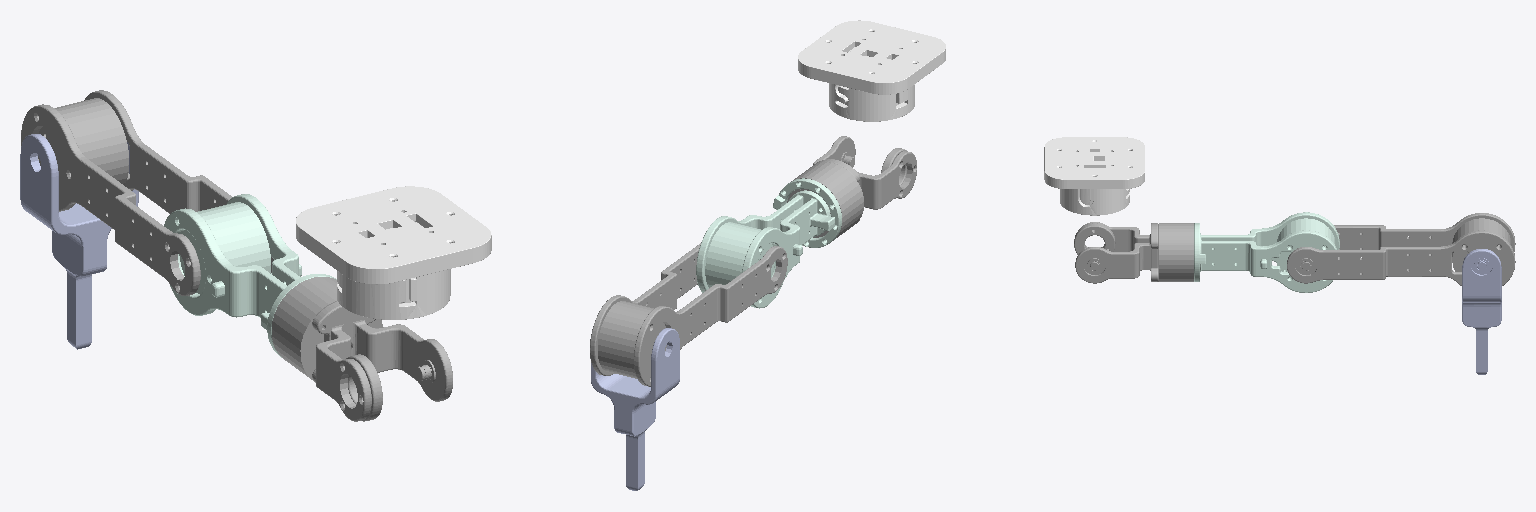
URDF robot description (tandem_mani):
<?xml version="1.0" encoding="utf-8"?>
<!-- This URDF was automatically created by SolidWorks to URDF Exporter! Originally created by [author] ([email redacted]) 
     Commit Version: 1.6.0-4-g7f85cfe  Build Version: 1.6.7995.38578
     For more information, please see http://wiki.ros.org/sw_urdf_exporter -->
<robot
  name="tandem_mani">
  <link
    name="base_link">
    <inertial>
      <origin
        xyz="0.000135595388122672 5.91224063131307E-05 -0.018365850422852"
        rpy="0 0 0" />
      <mass
        value="0.285969725659351" />
      <inertia
        ixx="0.000115724313213013"
        ixy="4.70432516652343E-08"
        ixz="-7.88346080559358E-09"
        iyy="0.000115478624283856"
        iyz="3.79749168472869E-08"
        izz="0.00018164786145776" />
    </inertial>
    <visual>
      <origin
        xyz="0 0 0"
        rpy="0 0 0" />
      <geometry>
        <mesh
          filename="package://tandem_mani/meshes/base_link.STL" />
      </geometry>
      <material
        name="">
        <color
          rgba="1 1 1 1" />
      </material>
    </visual>
    <collision>
      <origin
        xyz="0 0 0"
        rpy="0 0 0" />
      <geometry>
        <mesh
          filename="package://tandem_mani/meshes/base_link.STL" />
      </geometry>
    </collision>
  </link>
  <link
    name="link1">
    <inertial>
      <origin
        xyz="-1.45218249936463E-05 -4.78850872871073E-05 0.0041298276795592"
        rpy="0 0 0" />
      <mass
        value="0.244953972348195" />
      <inertia
        ixx="9.36608438261593E-05"
        ixy="6.38709285032214E-08"
        ixz="9.09638924219459E-08"
        iyy="0.000111053375180763"
        iyz="-2.2121372916245E-06"
        izz="8.44876478832793E-05" />
    </inertial>
    <visual>
      <origin
        xyz="0 0 0"
        rpy="0 0 0" />
      <geometry>
        <mesh
          filename="package://tandem_mani/meshes/link1.STL" />
      </geometry>
      <material
        name="">
        <color
          rgba="0.905882352941176 1 0.964705882352941 1" />
      </material>
    </visual>
    <collision>
      <origin
        xyz="0 0 0"
        rpy="0 0 0" />
      <geometry>
        <mesh
          filename="package://tandem_mani/meshes/link1.STL" />
      </geometry>
    </collision>
  </link>
  <joint
    name="joint1"
    type="continuous">
    <origin
      xyz="0.00015793 6.4042E-05 -0.093"
      rpy="0 0 1.5708" />
    <parent
      link="base_link" />
    <child
      link="link1" />
    <axis
      xyz="0 0 1" />
  </joint>
  <link
    name="link2">
    <inertial>
      <origin
        xyz="-2.14601662783948E-07 -0.0655891331164192 -0.000125674296825215"
        rpy="0 0 0" />
      <mass
        value="0.23012452247972" />
      <inertia
        ixx="7.49193326290686E-05"
        ixy="-3.29441184856602E-13"
        ixz="-1.5614454365387E-12"
        iyy="8.19197938094067E-05"
        iyz="-5.78389609780292E-07"
        izz="6.85328157056288E-05" />
    </inertial>
    <visual>
      <origin
        xyz="0 0 0"
        rpy="0 0 0" />
      <geometry>
        <mesh
          filename="package://tandem_mani/meshes/link2.STL" />
      </geometry>
      <material
        name="">
        <color
          rgba="0.752941176470588 0.752941176470588 0.752941176470588 1" />
      </material>
    </visual>
    <collision>
      <origin
        xyz="0 0 0"
        rpy="0 0 0" />
      <geometry>
        <mesh
          filename="package://tandem_mani/meshes/link2.STL" />
      </geometry>
    </collision>
  </link>
  <joint
    name="joint2"
    type="continuous">
    <origin
      xyz="0 0 0"
      rpy="1.5708 -1.5708 0" />
    <parent
      link="link1" />
    <child
      link="link2" />
    <axis
      xyz="0 0 1" />
  </joint>
  <link
    name="link3">
    <inertial>
      <origin
        xyz="5.06666183667029E-06 3.62276375425394E-05 -0.00924645090381562"
        rpy="0 0 0" />
      <mass
        value="0.249723164589436" />
      <inertia
        ixx="0.000142401582341112"
        ixy="-2.70844736564157E-08"
        ixz="-5.97667932770958E-09"
        iyy="0.000154588530939837"
        iyz="-4.141908797244E-06"
        izz="7.4727297306364E-05" />
    </inertial>
    <visual>
      <origin
        xyz="0 0 0"
        rpy="0 0 0" />
      <geometry>
        <mesh
          filename="package://tandem_mani/meshes/link3.STL" />
      </geometry>
      <material
        name="">
        <color
          rgba="0.905882352941176 1 0.964705882352941 1" />
      </material>
    </visual>
    <collision>
      <origin
        xyz="0 0 0"
        rpy="0 0 0" />
      <geometry>
        <mesh
          filename="package://tandem_mani/meshes/link3.STL" />
      </geometry>
    </collision>
  </link>
  <joint
    name="joint3"
    type="continuous">
    <origin
      xyz="0 -0.189 0"
      rpy="1.5708 0 0" />
    <parent
      link="link2" />
    <child
      link="link3" />
    <axis
      xyz="0 0 -1" />
  </joint>
  <link
    name="link4">
    <inertial>
      <origin
        xyz="0.140083180519364 7.70217223333702E-16 0.000270635189935343"
        rpy="0 0 0" />
      <mass
        value="0.254533013461218" />
      <inertia
        ixx="5.97966602470778E-05"
        ixy="5.83555031971081E-20"
        ixz="6.60761727489758E-07"
        iyy="0.000250961774728623"
        iyz="-6.12258360066086E-20"
        izz="0.000275230115180078" />
    </inertial>
    <visual>
      <origin
        xyz="0 0 0"
        rpy="0 0 0" />
      <geometry>
        <mesh
          filename="package://tandem_mani/meshes/link4.STL" />
      </geometry>
      <material
        name="">
        <color
          rgba="0.752941176470588 0.752941176470588 0.752941176470588 1" />
      </material>
    </visual>
    <collision>
      <origin
        xyz="0 0 0"
        rpy="0 0 0" />
      <geometry>
        <mesh
          filename="package://tandem_mani/meshes/link4.STL" />
      </geometry>
    </collision>
  </link>
  <joint
    name="joint4"
    type="continuous">
    <origin
      xyz="0 0 0"
      rpy="-1.5708 -1.5708 0" />
    <parent
      link="link3" />
    <child
      link="link4" />
    <axis
      xyz="0 0 1" />
  </joint>
  <link
    name="link5">
    <inertial>
      <origin
        xyz="-1.65614616465248E-09 -0.0395485542653819 0.000379781564919621"
        rpy="0 0 0" />
      <mass
        value="0.0494024336689589" />
      <inertia
        ixx="4.37835015871225E-05"
        ixy="-1.71636835636761E-12"
        ixz="1.57326385975137E-13"
        iyy="1.65286055806533E-05"
        iyz="5.15290314507009E-07"
        izz="3.5933623623826E-05" />
    </inertial>
    <visual>
      <origin
        xyz="0 0 0"
        rpy="0 0 0" />
      <geometry>
        <mesh
          filename="package://tandem_mani/meshes/link5.STL" />
      </geometry>
      <material
        name="">
        <color
          rgba="0.792156862745098 0.819607843137255 0.933333333333333 1" />
      </material>
    </visual>
    <collision>
      <origin
        xyz="0 0 0"
        rpy="0 0 0" />
      <geometry>
        <mesh
          filename="package://tandem_mani/meshes/link5.STL" />
      </geometry>
    </collision>
  </link>
  <joint
    name="joint5"
    type="continuous">
    <origin
      xyz="0.157 0 0"
      rpy="0 0 0" />
    <parent
      link="link4" />
    <child
      link="link5" />
    <axis
      xyz="0 0 1" />
  </joint>
  <link
    name="end_point">
    <inertial>
      <origin
        xyz="-1.38777878078145E-17 0 0.00312400364362017"
        rpy="0 0 0" />
      <mass
        value="0.000333382798127531" />
      <inertia
        ixx="2.71618901708545E-09"
        ixy="-1.75775880167518E-24"
        ixz="-5.93774634985794E-24"
        iyy="2.71618901708544E-09"
        iyz="-4.39842935160137E-24"
        izz="4.44638380952943E-09" />
    </inertial>
    <visual>
      <origin
        xyz="0 0 0"
        rpy="0 0 0" />
      <geometry>
        <mesh
          filename="package://tandem_mani/meshes/end_point.STL" />
      </geometry>
      <material
        name="">
        <color
          rgba="0.792156862745098 0.819607843137255 0.933333333333333 1" />
      </material>
    </visual>
    <collision>
      <origin
        xyz="0 0 0"
        rpy="0 0 0" />
      <geometry>
        <mesh
          filename="package://tandem_mani/meshes/end_point.STL" />
      </geometry>
    </collision>
  </link>
  <joint
    name="end_joint"
    type="fixed">
    <origin
      xyz="0 -0.12 -0.0005"
      rpy="-1.5708 -1.5708 0" />
    <parent
      link="link5" />
    <child
      link="end_point" />
    <axis
      xyz="0 0 0" />
  </joint>
</robot>

--- Facts derived from the render (not from the file) ---
The picture shows the robot from 3 angles, left to right: view 1: azimuth 30°, elevation 25°; view 2: azimuth 150°, elevation 25°; view 3: azimuth 270°, elevation 25°; orthographic projection.
Robot: tandem_mani — 7 links, 6 joints (5 continuous, 1 fixed); root link base_link; default pose: all joints at 0.
Links seen in each view (by area): view 1: base_link, link4, link2, link3, link5; view 2: link4, base_link, link3, link5, link2; view 3: link4, base_link, link3, link2, link5.
Boxes of the visible links, bbox=[...] form: base_link: bbox=[296, 186, 491, 319]; link4: bbox=[21, 90, 273, 295]; link2: bbox=[272, 277, 452, 421]; link3: bbox=[164, 194, 336, 357]; link5: bbox=[20, 134, 138, 344]; link4: bbox=[590, 243, 787, 386]; base_link: bbox=[798, 20, 945, 121]; link3: bbox=[696, 178, 841, 308]; link5: bbox=[591, 328, 679, 487]; link2: bbox=[787, 136, 916, 240]; link4: bbox=[1287, 213, 1515, 285]; base_link: bbox=[1044, 137, 1144, 215]; link3: bbox=[1194, 212, 1339, 292]; link2: bbox=[1074, 222, 1193, 283]; link5: bbox=[1462, 249, 1501, 371].
Bounding box of the posed robot: 0.09 × 0.421 × 0.213 m (x, y, z).
6 mesh visuals loaded from 7 distinct referenced files (6 binary STL); not drawn: 1 (reference not matched to a file when rendering).